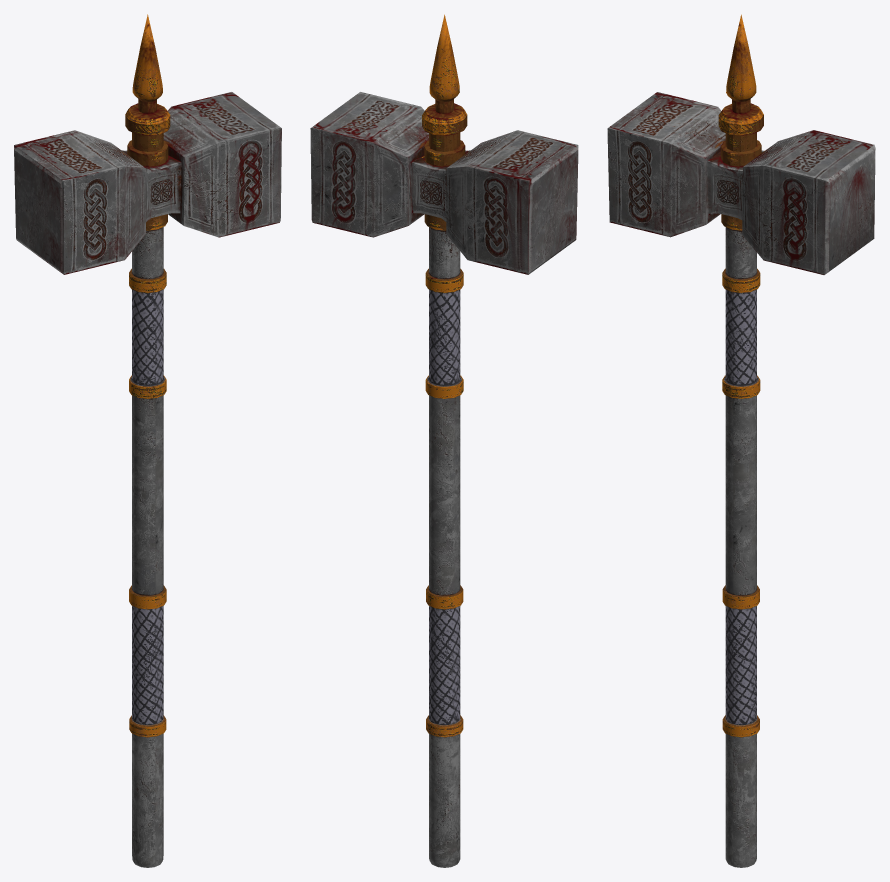
Rendered from SM_Warhammer.FBX.
3 views of the same model, side by side, from view 1: azimuth 30°, elevation 25°; view 2: azimuth 150°, elevation 25°; view 3: azimuth 330°, elevation 25° (orthographic).
Parts seen in each view (by area): view 1: SM_Warhammer; view 2: SM_Warhammer; view 3: SM_Warhammer.
Boxes of the visible parts, <box> form: SM_Warhammer: <box>14,14,281,867</box>; SM_Warhammer: <box>310,14,578,867</box>; SM_Warhammer: <box>607,14,875,867</box>.
Bounding box in the file's own units: 121 × 443 × 47.02.
